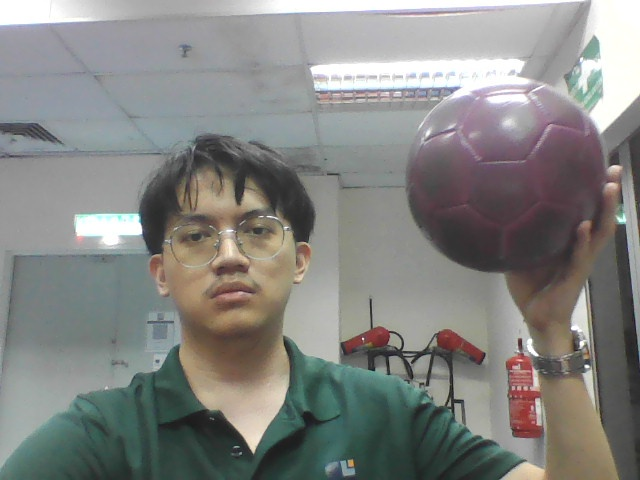Purple: (408, 78, 607, 273)
